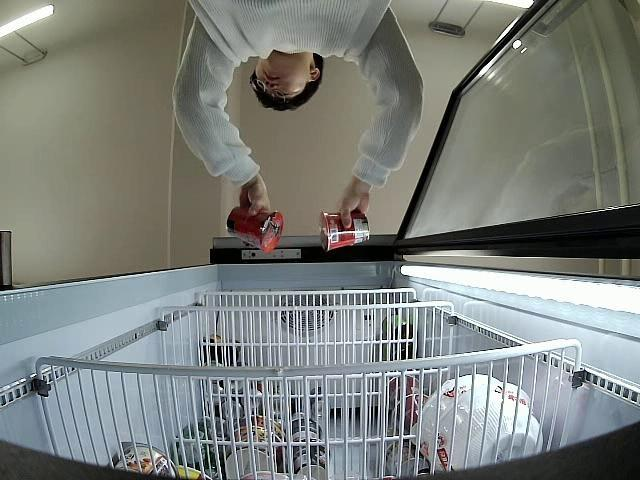02_shinRamen_S: (227, 207, 282, 252), (320, 210, 369, 250)
